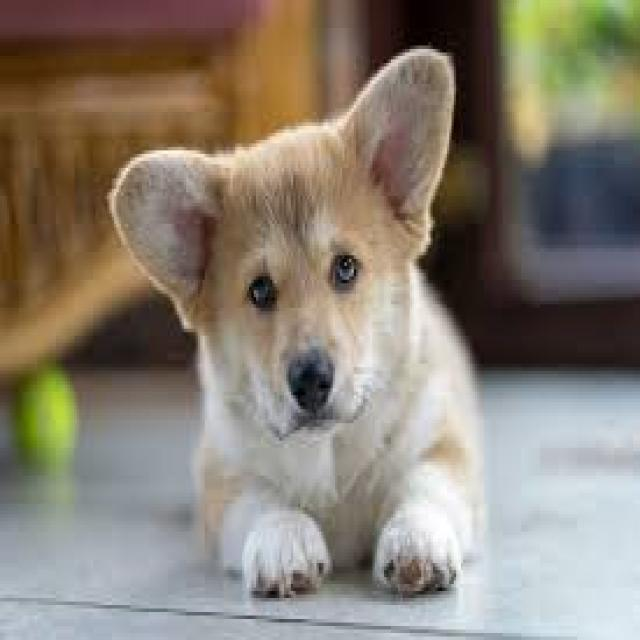CORGI: (117, 45, 504, 616)
